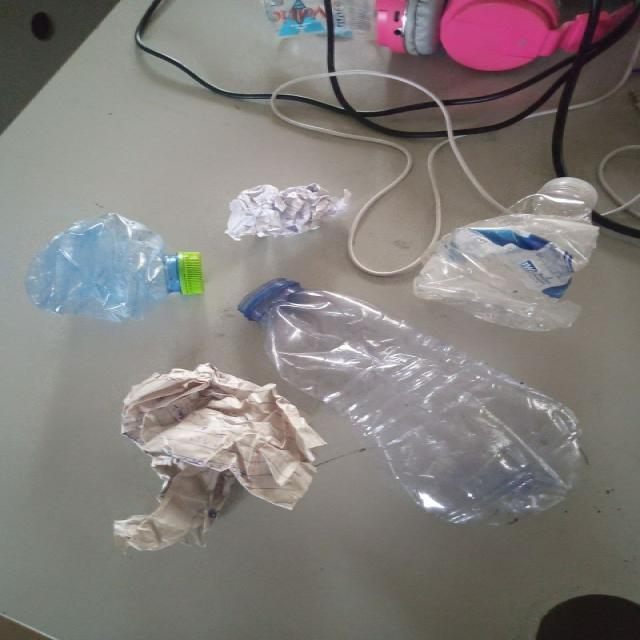Paper: (113, 364, 327, 553), (224, 183, 351, 244)
Plastic: (239, 278, 587, 527), (413, 178, 600, 332), (24, 213, 204, 325)
